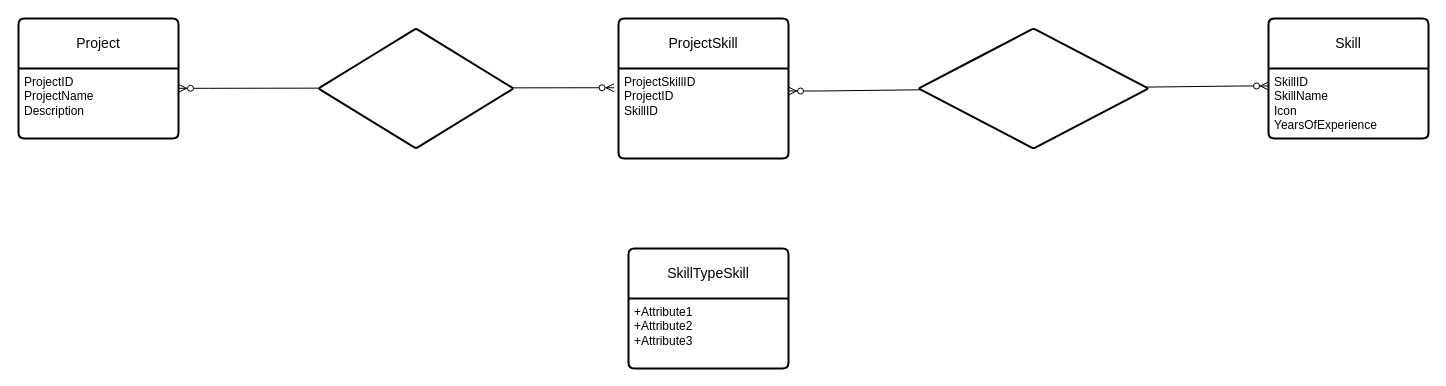
The diagram is 1446 pixels wide and 386 high, and some of its shapes have lost their labels. The centre of each missing label's shape, as x and y in pixels:
"Projects using Skills" belongs at [415,88].
"Skills used in Projects" belongs at [1033,88].
